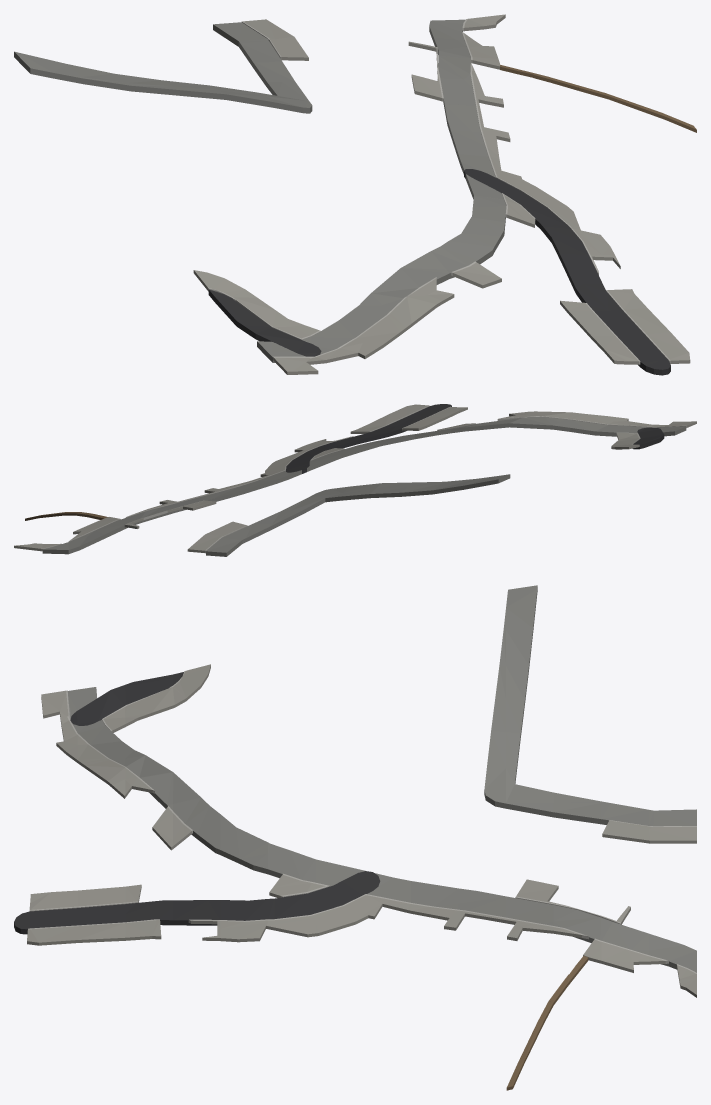
3 views of the same model, one above another, from view 1: azimuth 30°, elevation 25°; view 2: azimuth 150°, elevation 25°; view 3: azimuth 270°, elevation 25° (orthographic). The views are drawn at different scales.
Bounding box in the file's own units: 147 × 48.76 × 143.
